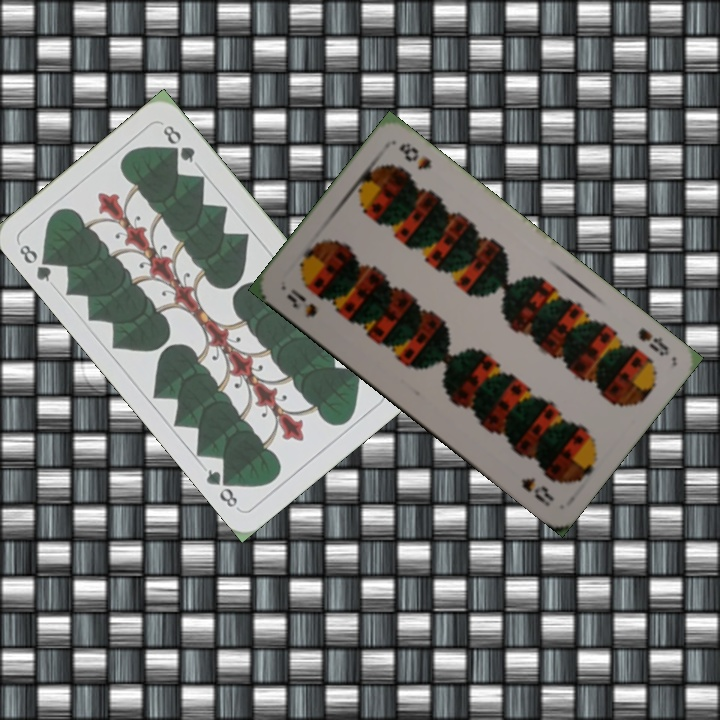G8: (15, 240, 58, 285)
S8: (282, 284, 320, 320), (633, 324, 672, 359)
